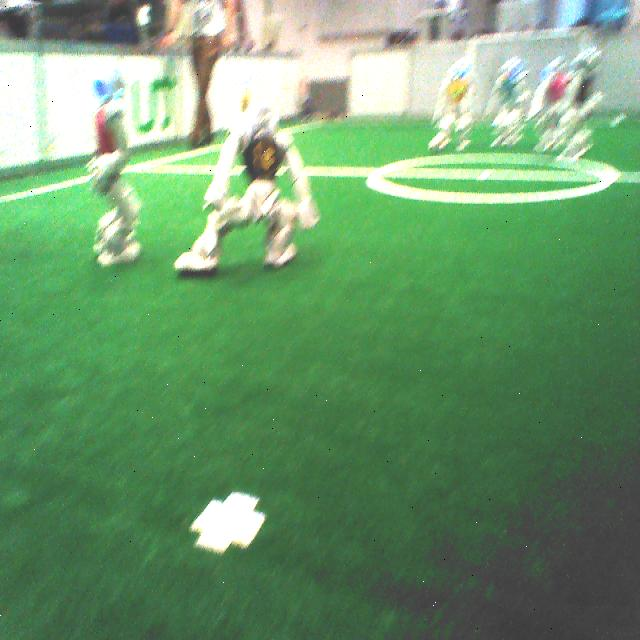goalpost: (466, 36, 481, 63), (578, 30, 591, 54)
